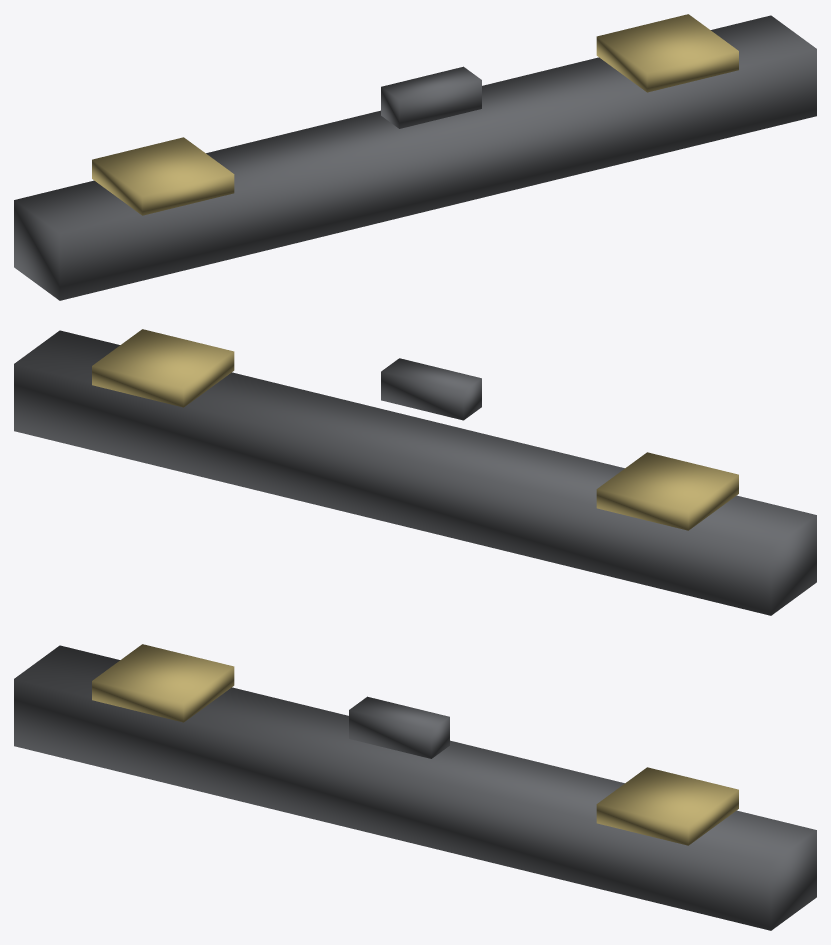
The model's file is wheel_stop_03.glb.
3 renders of one model, top to bottom at view 1: azimuth 30°, elevation 25°; view 2: azimuth 150°, elevation 25°; view 3: azimuth 330°, elevation 25°, orthographic.
Parts seen in each view (by area): view 1: world; view 2: world; view 3: world.
Boxes of the visible parts, box(x1,y1,x2,y2) form: world: box(14, 14, 816, 300); world: box(14, 329, 816, 615); world: box(14, 644, 816, 930).
Size of the model in its own units: 1.72 by 0.26 by 0.198.
